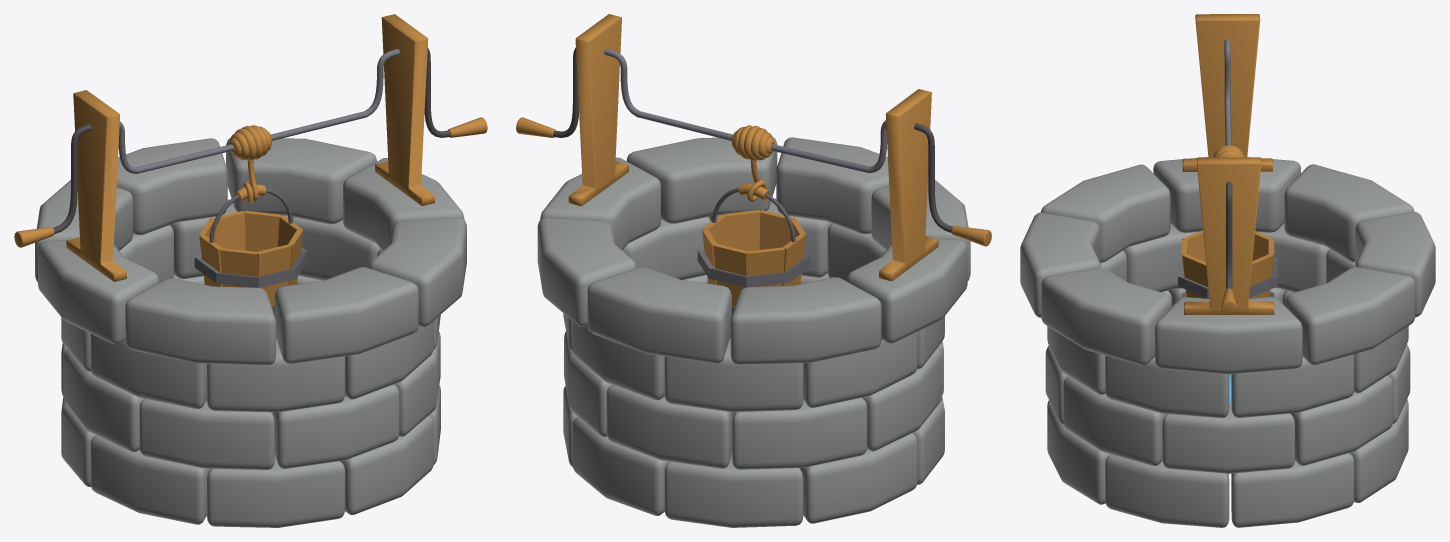
The model's file is Well.fbx.
3 views of the same model, side by side, from view 1: azimuth 30°, elevation 25°; view 2: azimuth 150°, elevation 25°; view 3: azimuth 270°, elevation 25° (orthographic). The views are drawn at different scales.
Visible parts, largest first — view 1: Well; view 2: Well; view 3: Well.
Part boxes in pixels (bbox=[...]): Well: bbox=[14, 14, 487, 527]; Well: bbox=[516, 14, 991, 527]; Well: bbox=[1020, 14, 1435, 527].
Size of the model in its own units: 270 by 213 by 219.
